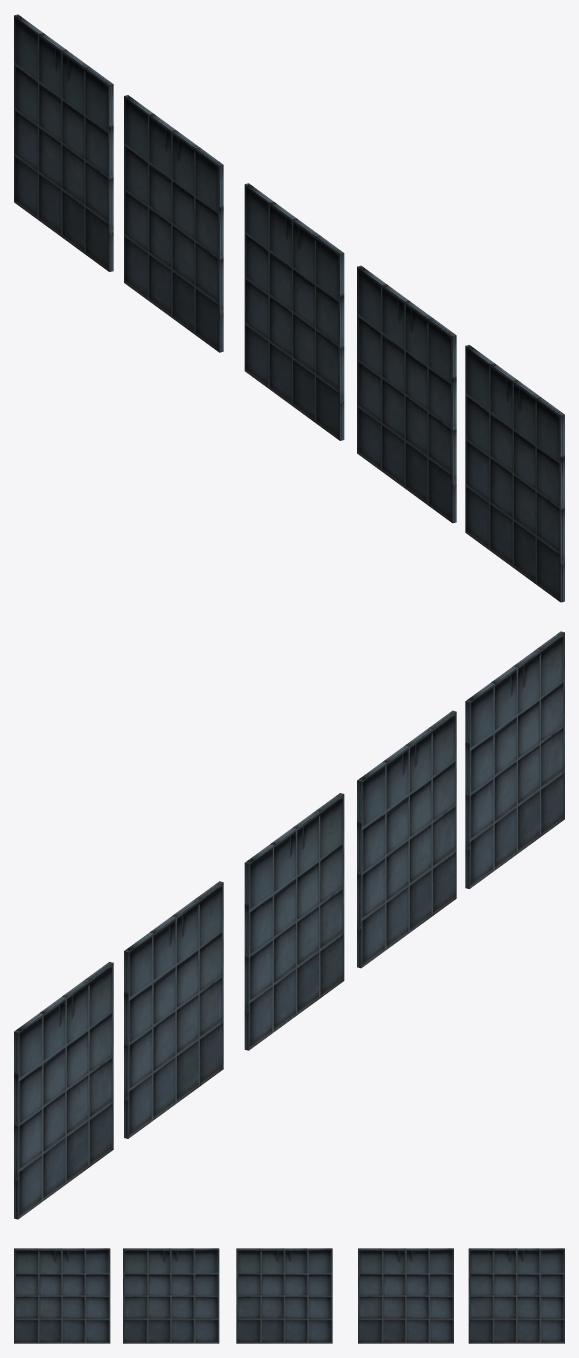
File: Wohushan_zhamen.glb
3 views of the same model, one above another, from view 1: azimuth 30°, elevation 25°; view 2: azimuth 150°, elevation 25°; view 3: azimuth 270°, elevation 25° (orthographic). The views are drawn at different scales.
Parts seen in each view (by area): view 1: 立方体.007; view 2: 立方体.007; view 3: 立方体.007.
Boxes of the visible parts, x1=… form: 立方体.007: x1=14, y1=14, x2=564, y2=602; 立方体.007: x1=14, y1=631, x2=564, y2=1219; 立方体.007: x1=14, y1=1248, x2=564, y2=1343.
Bounding box in the file's own units: 0.3221 × 13.65 × 72.37.
1 material, 1 textured.
